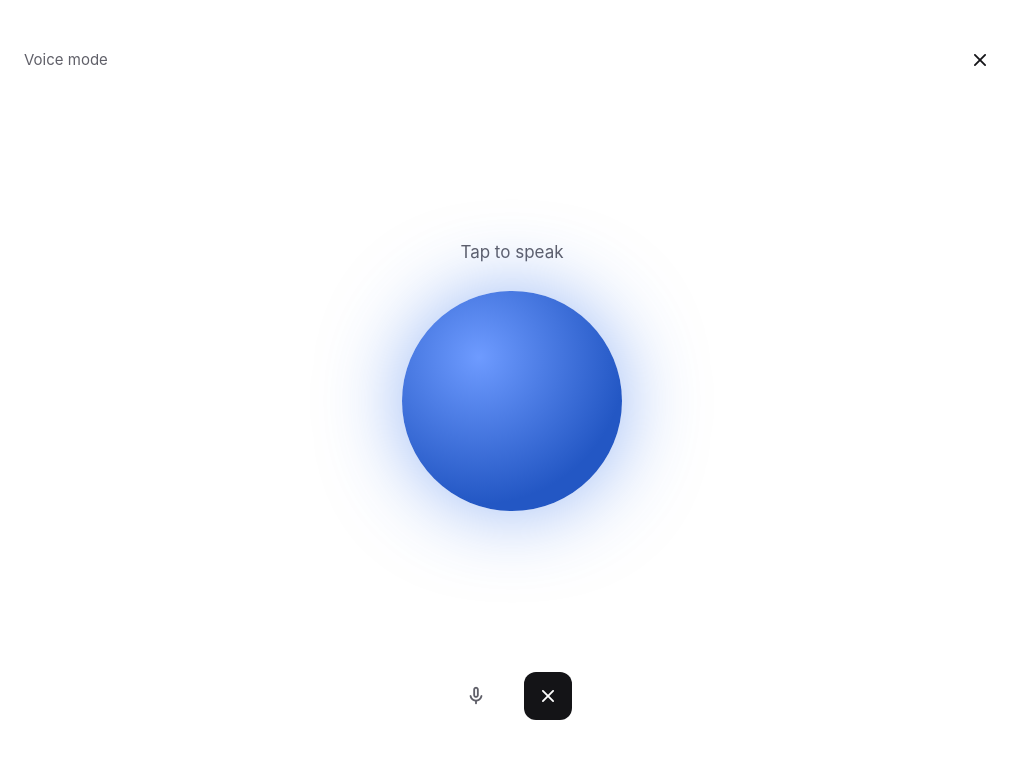
Test: VoiceMode capture lifecycle › accepts capture after the StrictMode effect cleanup/setup cycle
Click the button named "Tap to speak": (512,401) [402, 291, 622, 511]
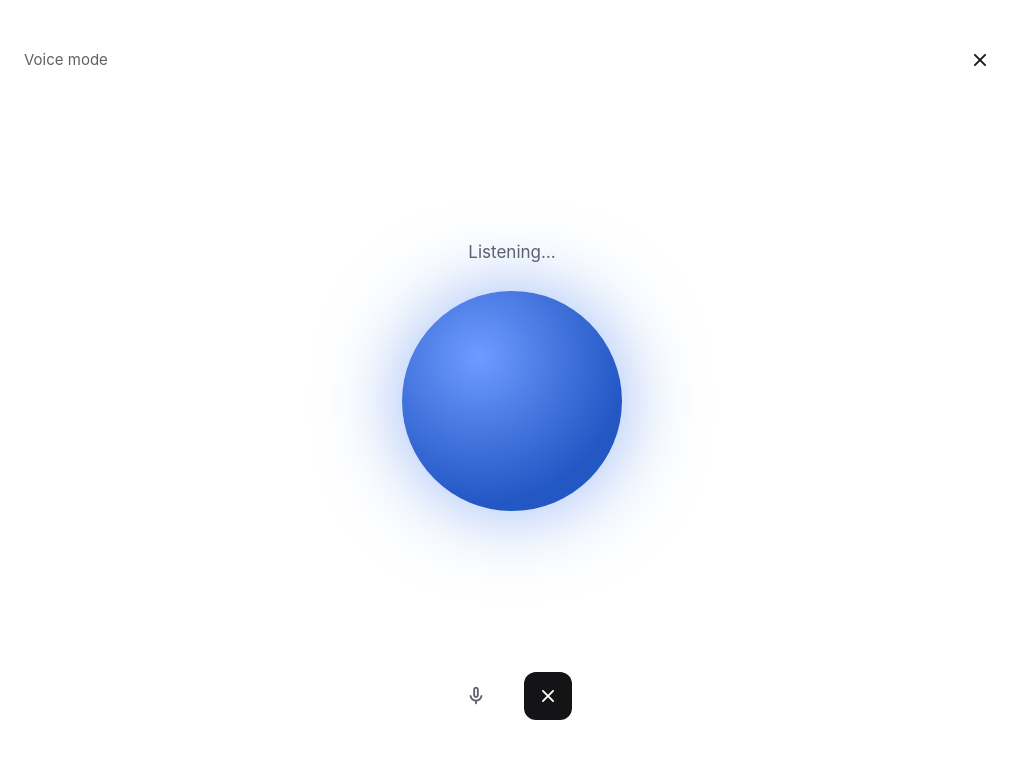
Expected: the text "Listening…" is shown, [468, 241, 556, 267]
